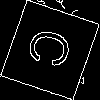C: (25, 24, 83, 74)
